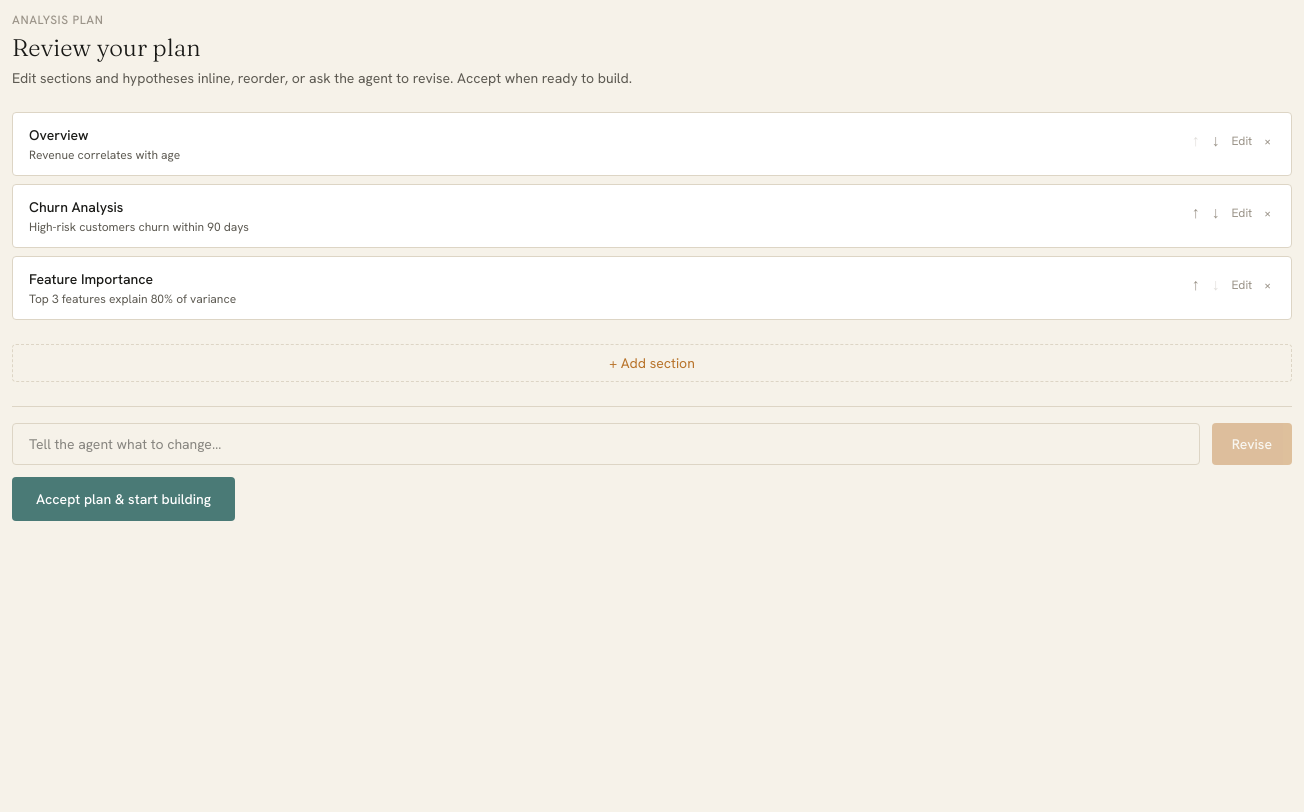
Test: PlanView › shows loading spinner while a plan revision turn is pending
The image size is (1304, 812).
Type "Revise the plan" into the field with test id "plan-turn-input" at (606, 444), box [12,423,1200,465]
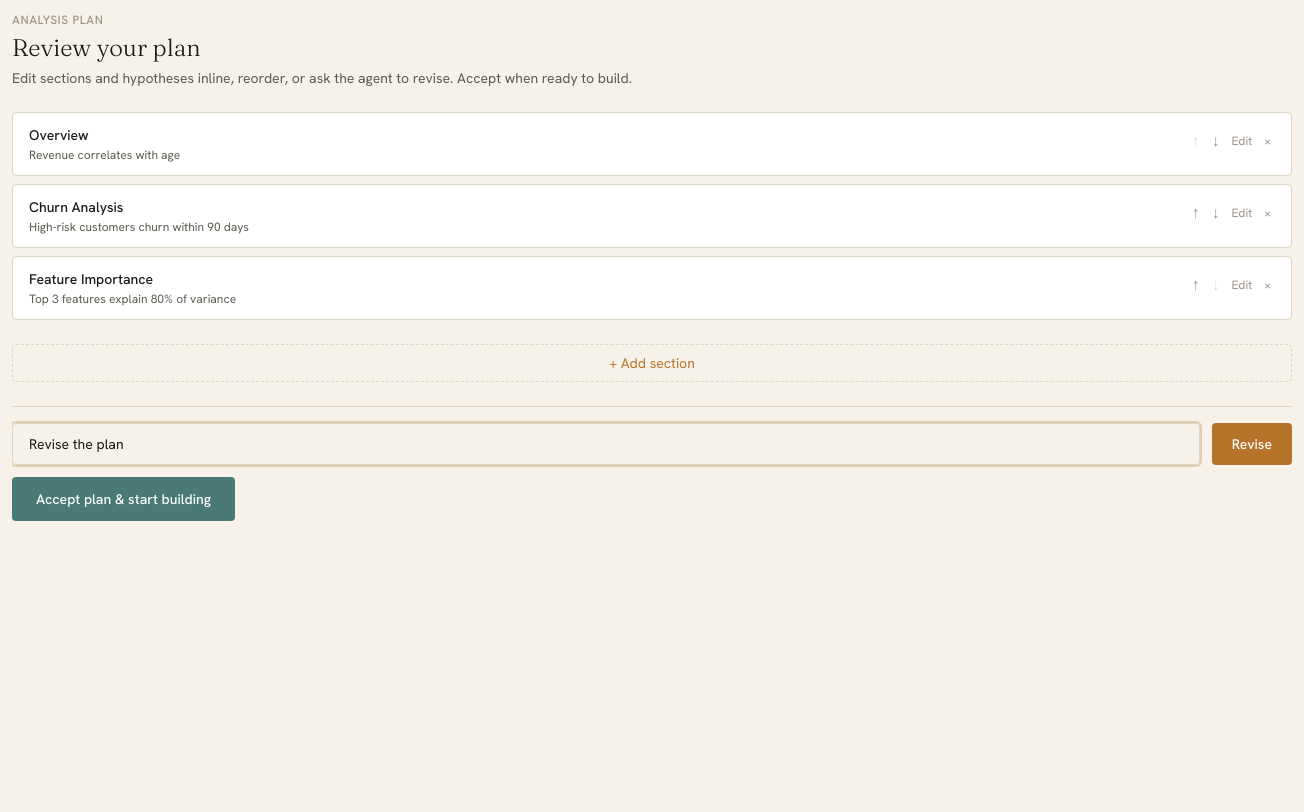
Click the button with test id "plan-turn-submit" at (1252, 444), box [1212,423,1292,465]
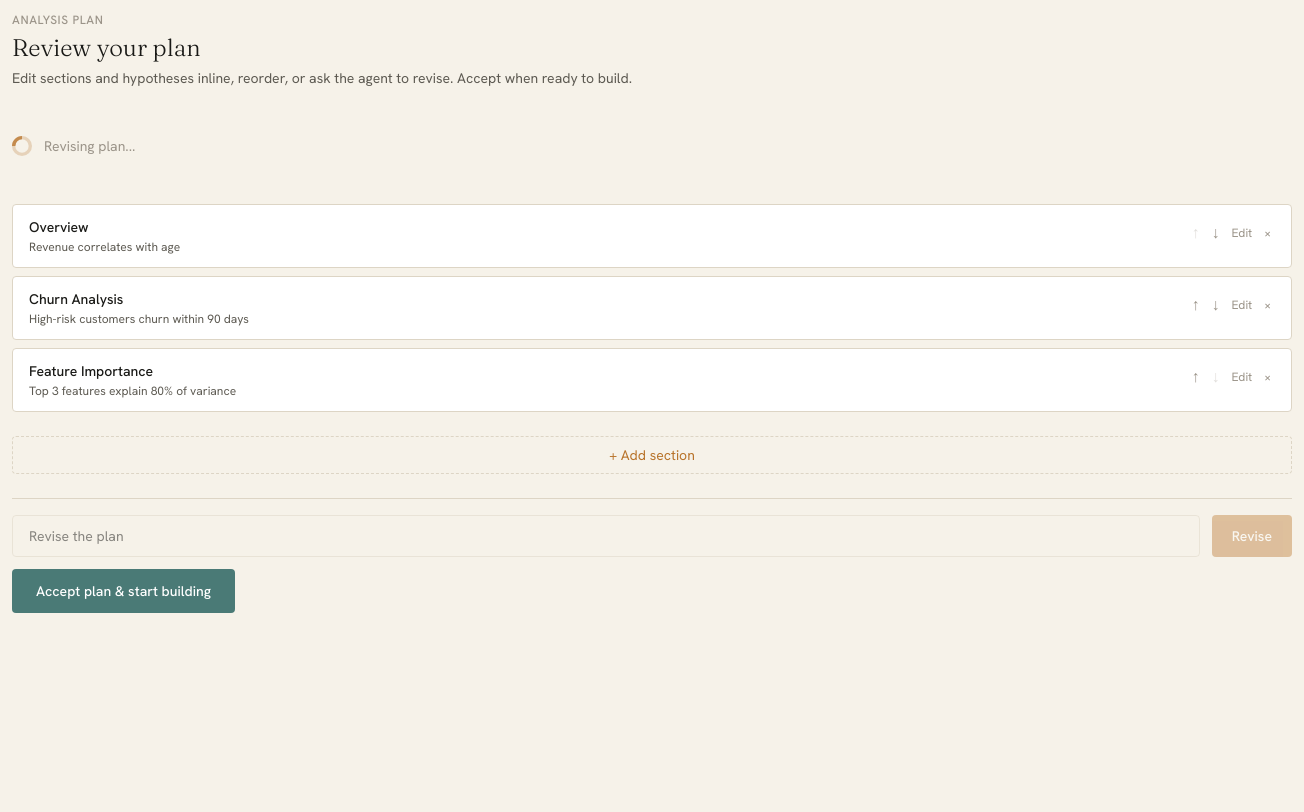
Expected: the element with test id "plan-loading-spinner" is shown, [12,136,135,156]
Expected: the element with test id "plan-loading-spinner" shows "Revising plan", [44,137,135,155]
